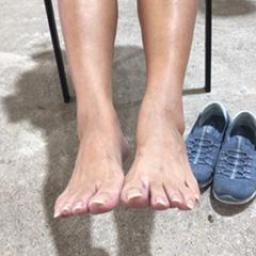Front View -Both Feet-: (44, 64, 204, 229)
